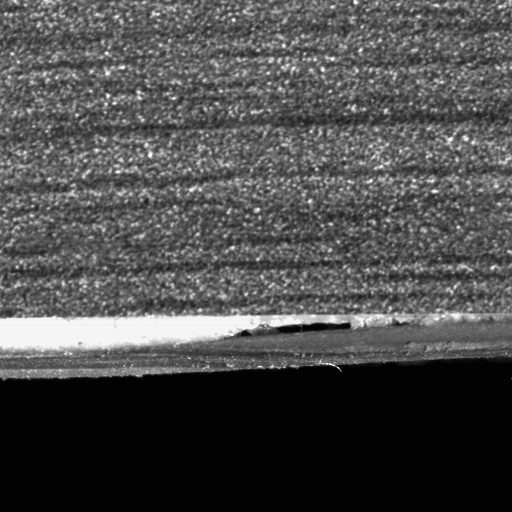kaijiao: (0, 309, 511, 383)
